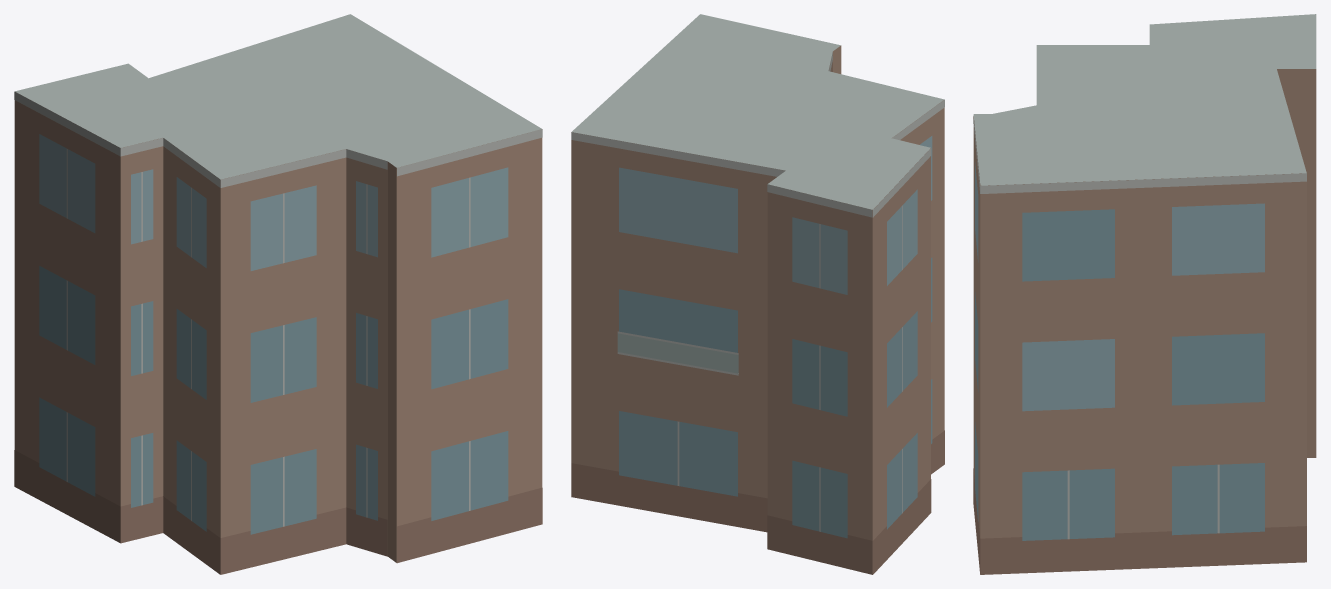
The model's file is survey-upis-32480660.glb.
3 views of the same model, side by side, from view 1: azimuth 30°, elevation 25°; view 2: azimuth 150°, elevation 25°; view 3: azimuth 270°, elevation 25° (orthographic). The views are drawn at different scales.
Parts seen in each view (by area): view 1: survey-upis-32480660.tmp; view 2: survey-upis-32480660.tmp; view 3: survey-upis-32480660.tmp.
Part boxes in pixels (x1,y1,x2,y2): survey-upis-32480660.tmp: [14, 14, 542, 574]; survey-upis-32480660.tmp: [571, 14, 944, 574]; survey-upis-32480660.tmp: [973, 14, 1316, 574].
Size of the model in its own units: 10.7 by 11.3 by 9.03.
